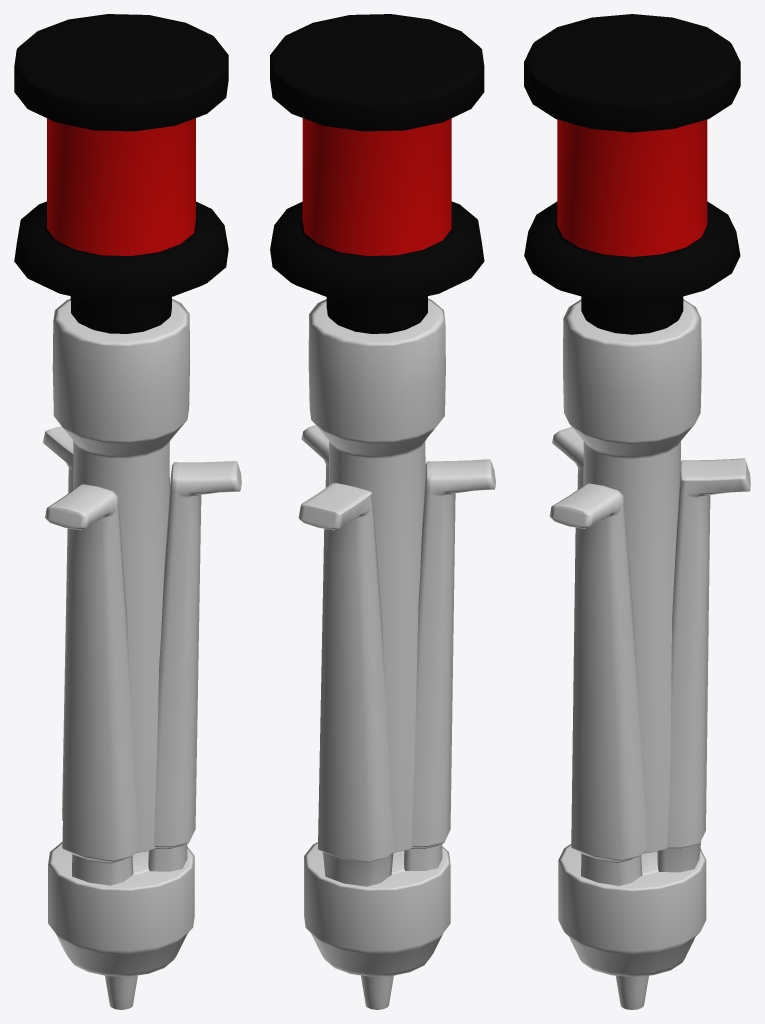
Rendered from MS_RopeAnchor.fbx.
3 renders of one model, left to right at view 1: azimuth 30°, elevation 25°; view 2: azimuth 150°, elevation 25°; view 3: azimuth 270°, elevation 25°, orthographic.
Parts seen in each view (by area): view 1: Anchor_Top, Anchor_Bottom, Anchor_Detail1, Anchor_Detail2, Anchor_Detail0; view 2: Anchor_Top, Anchor_Bottom, Anchor_Detail0, Anchor_Detail1, Anchor_Detail2; view 3: Anchor_Top, Anchor_Bottom, Anchor_Detail2, Anchor_Detail0, Anchor_Detail1.
Boxes of the visible parts, x1=… form: Anchor_Top: x1=14, y1=14, x2=228, y2=333; Anchor_Bottom: x1=48, y1=299, x2=194, y2=1009; Anchor_Detail1: x1=45, y1=484, x2=138, y2=885; Anchor_Detail2: x1=148, y1=461, x2=241, y2=871; Anchor_Detail0: x1=42, y1=426, x2=73, y2=820; Anchor_Top: x1=270, y1=14, x2=484, y2=333; Anchor_Bottom: x1=304, y1=298, x2=450, y2=1009; Anchor_Detail0: x1=298, y1=483, x2=393, y2=886; Anchor_Detail1: x1=404, y1=459, x2=495, y2=870; Anchor_Detail2: x1=301, y1=425, x2=328, y2=487; Anchor_Top: x1=524, y1=14, x2=740, y2=334; Anchor_Bottom: x1=558, y1=299, x2=706, y2=1009; Anchor_Detail2: x1=549, y1=483, x2=647, y2=885; Anchor_Detail0: x1=657, y1=458, x2=750, y2=872; Anchor_Detail1: x1=552, y1=426, x2=583, y2=489.
Bounding box in the file's own units: 13.44 × 63.02 × 13.64.
